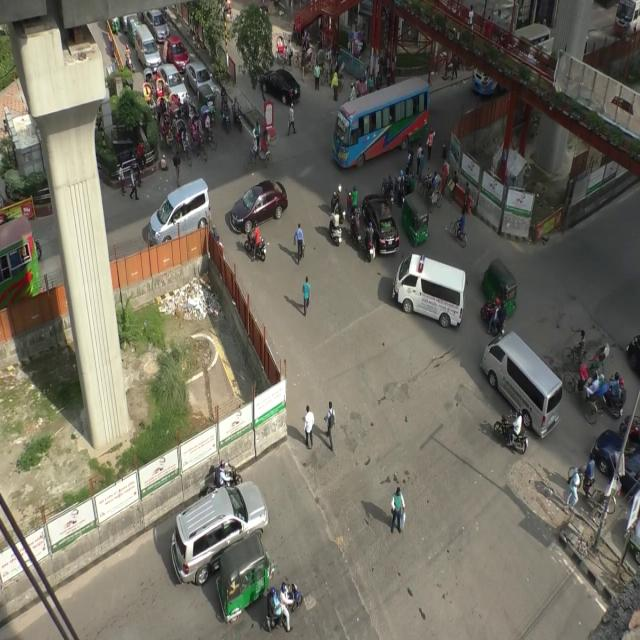Rikshaw-Py4o: (563, 332, 615, 369), (574, 373, 612, 407), (248, 125, 271, 162), (419, 170, 444, 199), (174, 121, 191, 158), (190, 113, 206, 152), (158, 115, 172, 151), (141, 81, 154, 117), (202, 107, 212, 147), (155, 95, 166, 113), (171, 103, 182, 120), (157, 78, 166, 94)
